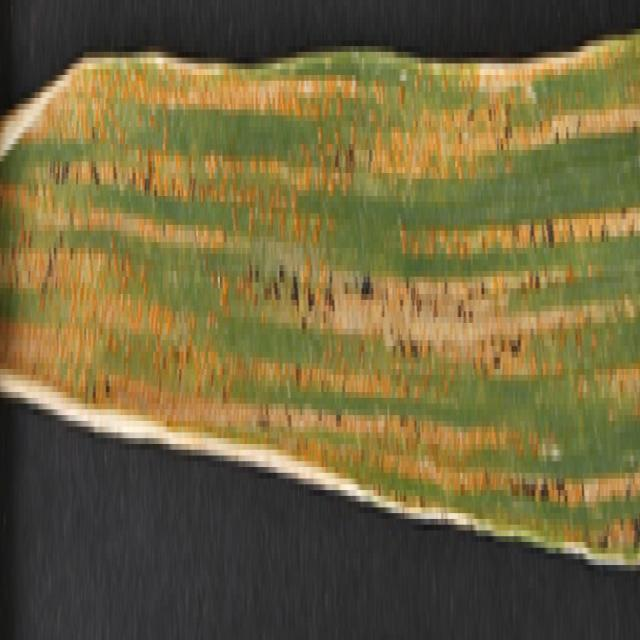leaf rust: (1, 29, 640, 559)
